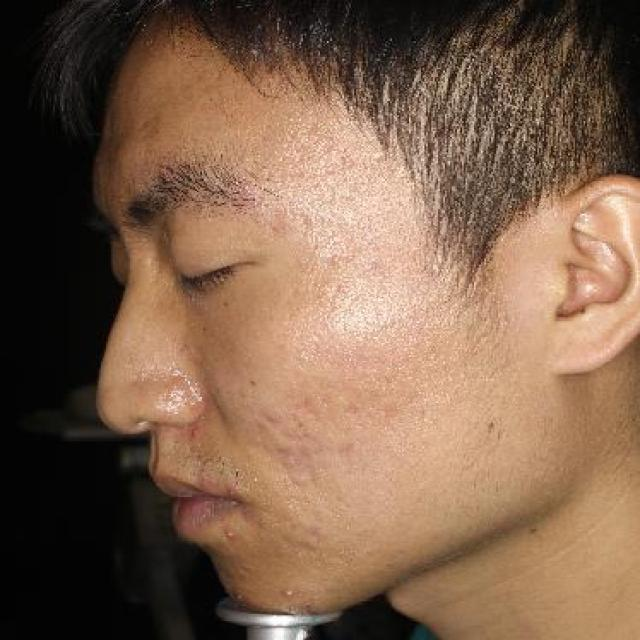papules: (188, 422, 204, 446), (280, 583, 298, 602), (221, 524, 236, 544), (235, 585, 248, 603)
